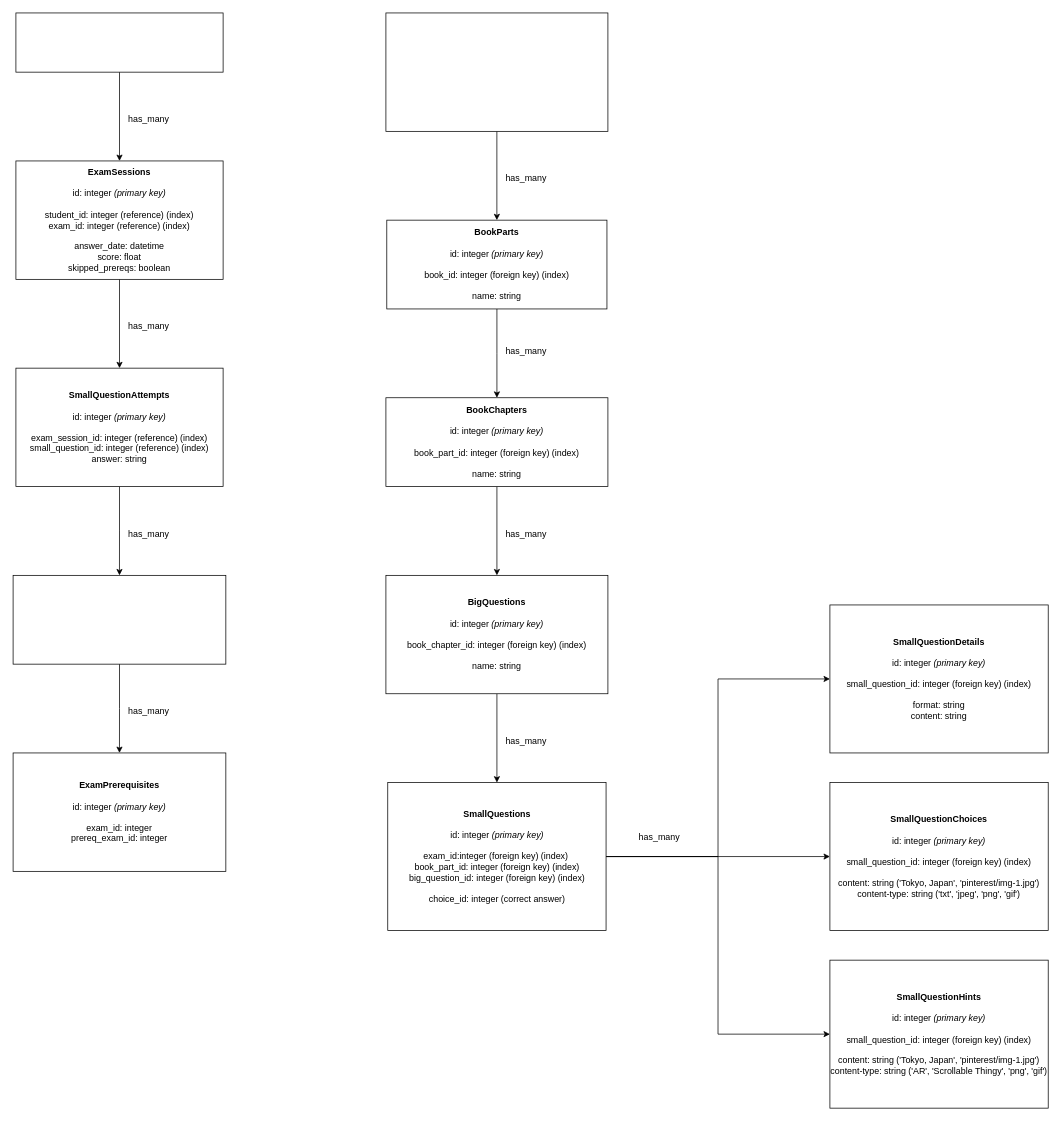
Image size: 1061x1121. Some labels were removed from this diagram. Each missing label, with the box of its shape:
Books id: integer (primary key) name: string: (385, 12, 608, 131)
Exams id: integer (primary key) name: string type: string ('1', '2', 'study'): (12, 575, 226, 664)
Students id: integer (primary key) name: string: (15, 12, 223, 72)
